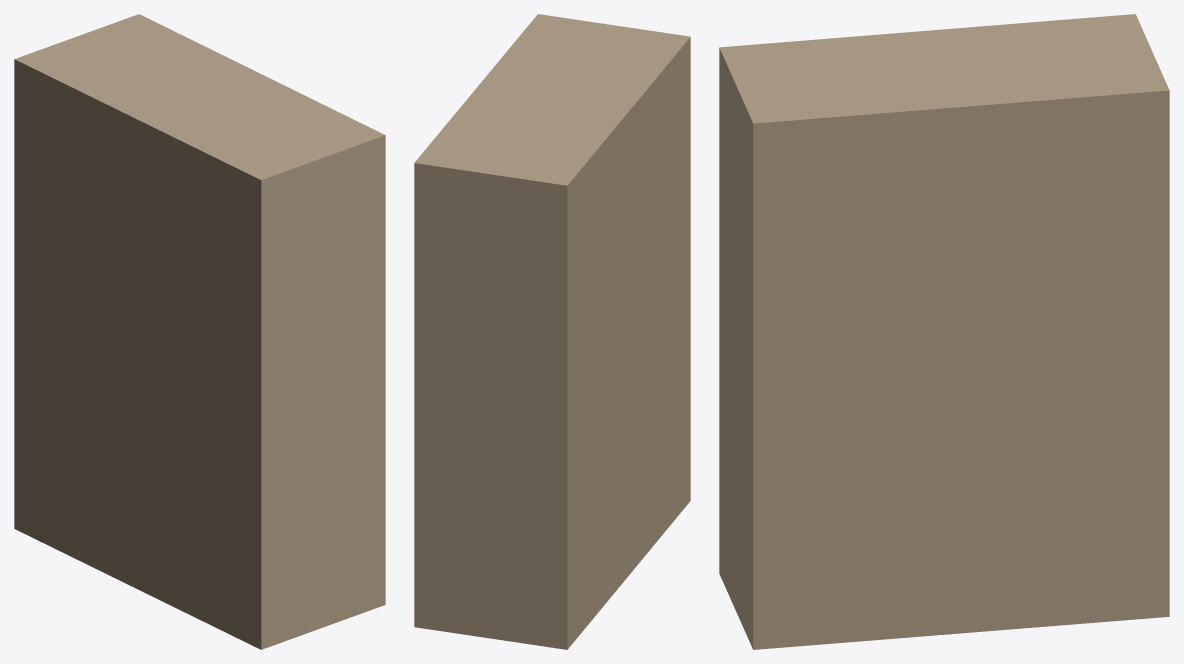
File: bld_106456114.dae
3 views of the same model, side by side, from view 1: azimuth 30°, elevation 25°; view 2: azimuth 150°, elevation 25°; view 3: azimuth 270°, elevation 25° (orthographic). The views are drawn at different scales.
Parts seen in each view (by area): view 1: bld_106456114; view 2: bld_106456114; view 3: bld_106456114.
Boxes of the visible parts, x1=… form: bld_106456114: x1=14, y1=14, x2=385, y2=649; bld_106456114: x1=414, y1=14, x2=690, y2=649; bld_106456114: x1=719, y1=14, x2=1169, y2=649.
Size of the model in its own units: 3.57 by 6.2 by 8.
